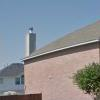Chimney: (19, 23, 44, 60)
